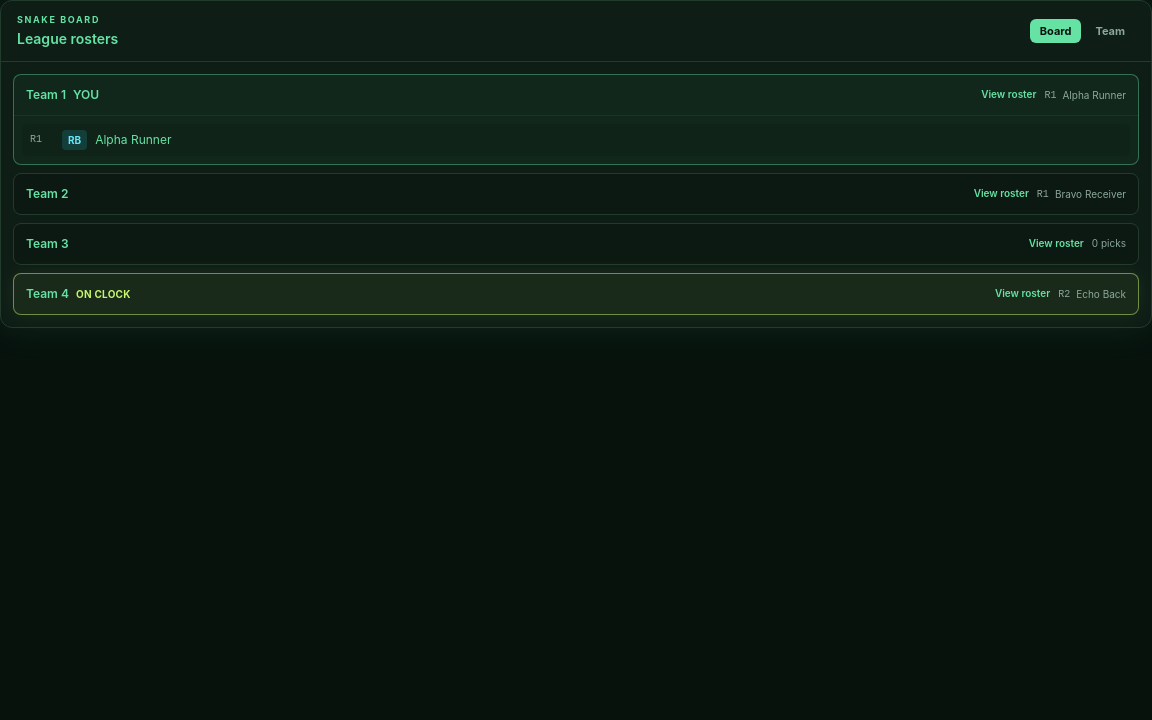
Test case: snake board rosters › switches team picks when selecting another team chip
The width and height of the screenshot is (1152, 720).
Click the tab with test id "roster-view-team" at (1110, 31), box [1085,18,1135,43]
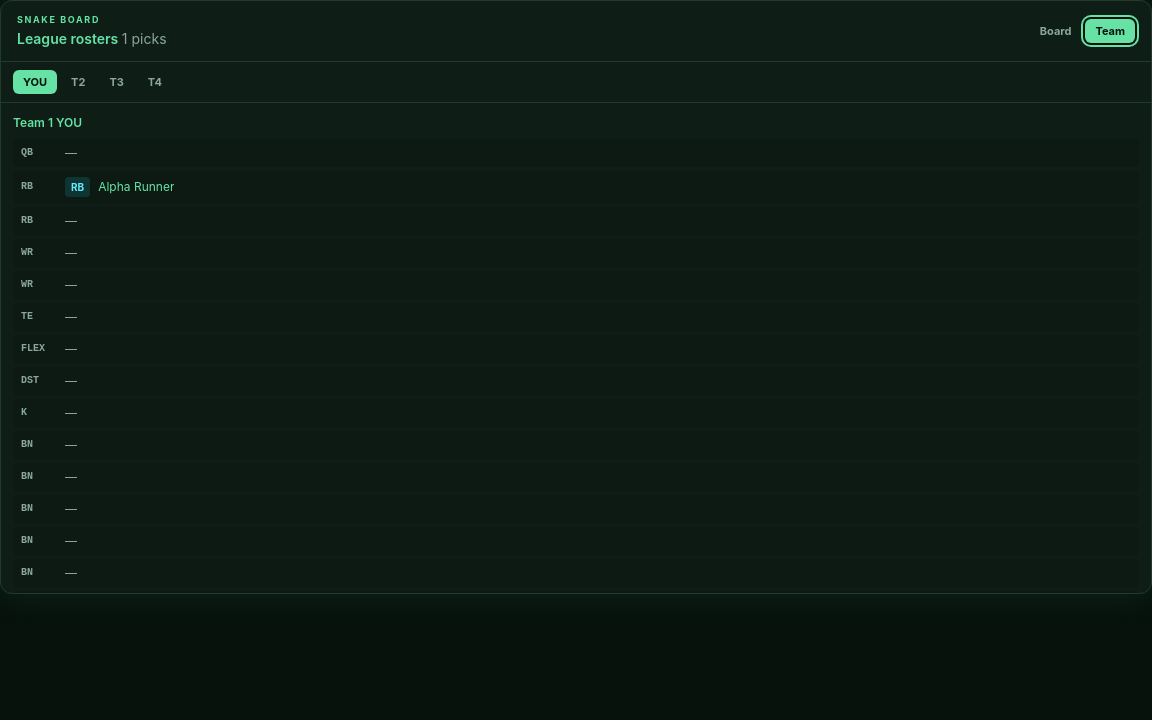
Click the tab with test id "roster-team-chip-2" at (78, 82), box [61,70,95,94]
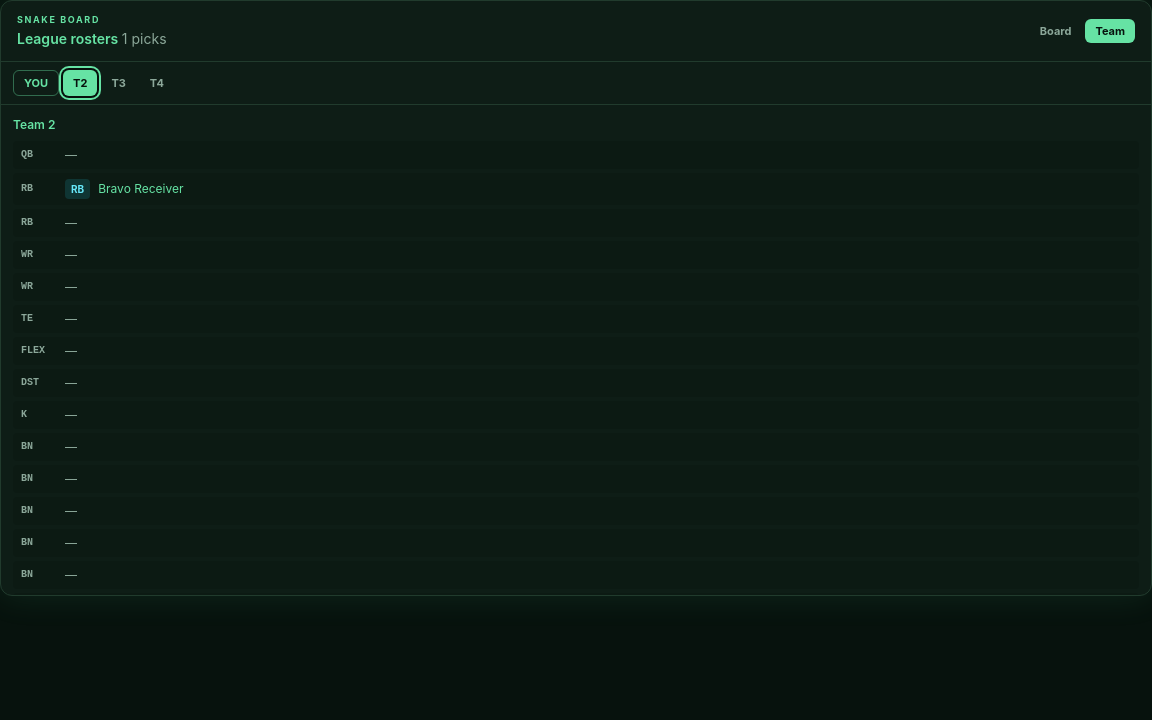
Expected: the element with test id "roster-team-detail-2" does not show "Echo Back"
Expected: the element with test id "roster-team-detail-2" shows "Bravo Receiver", [98,181,184,196]
Expected: the element with test id "roster-team-detail-2" no longer shows "Alpha Runner"
